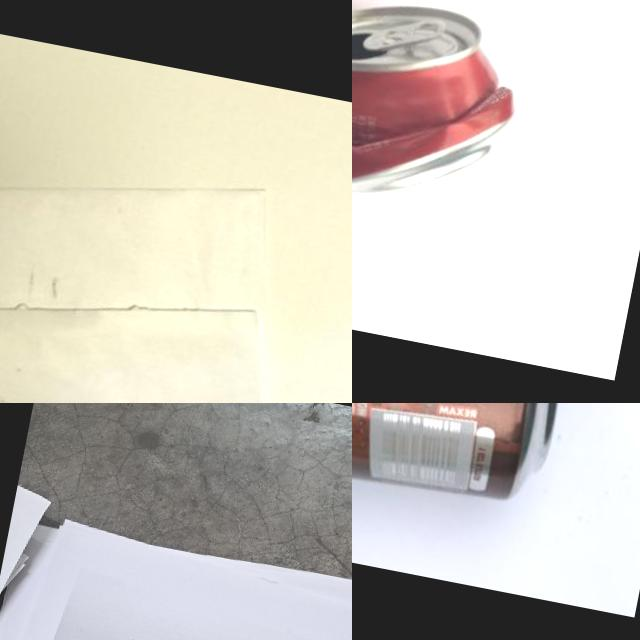aba de lata: (360, 4, 447, 64)
lata: (352, 0, 531, 218), (352, 403, 590, 528)
papel: (0, 127, 309, 403), (0, 474, 352, 640)
